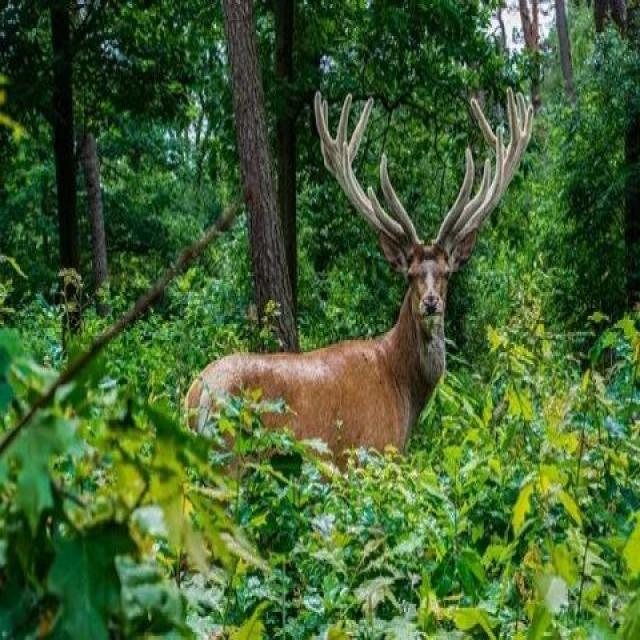deer: (133, 47, 570, 550)
